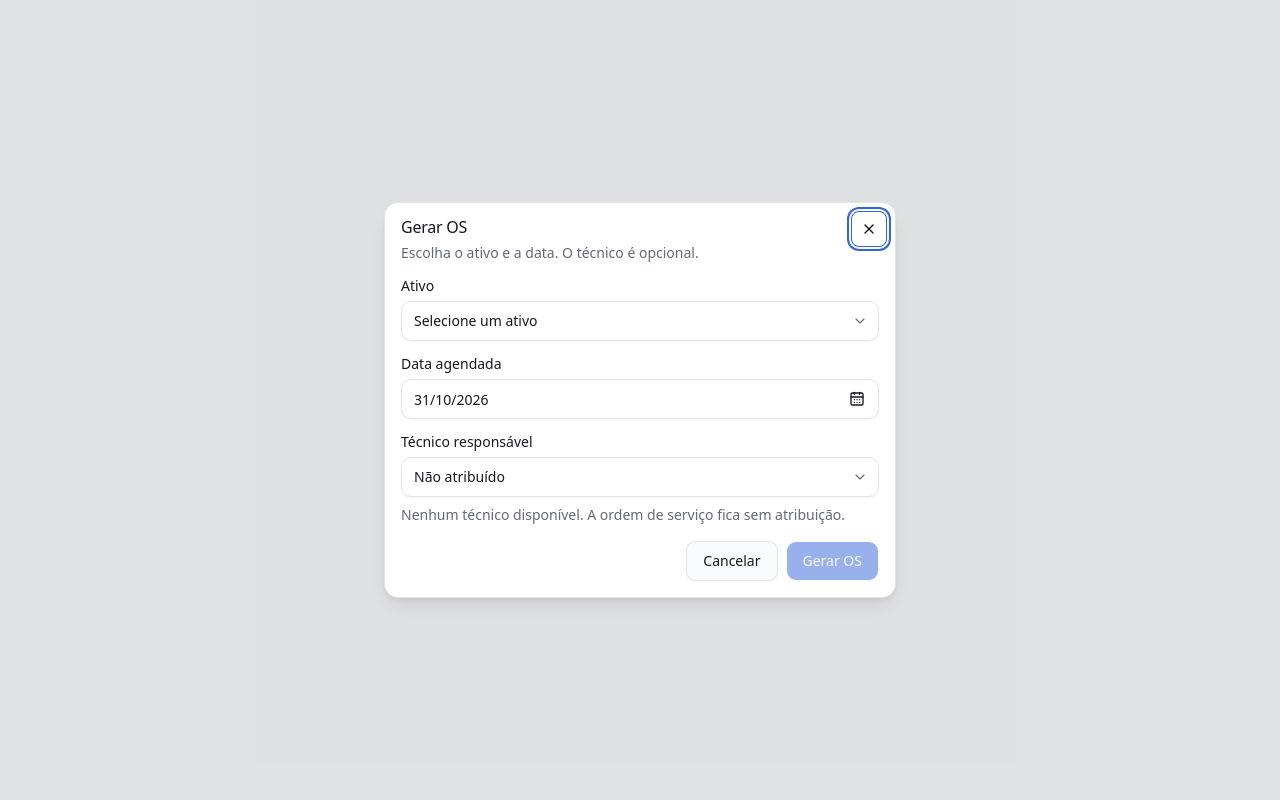
Scenario: GenerateWorkOrderDialog › translates the inactive plan error
Click the dropdown labelled "ativo" at (476, 320), box [401,301,879,341]
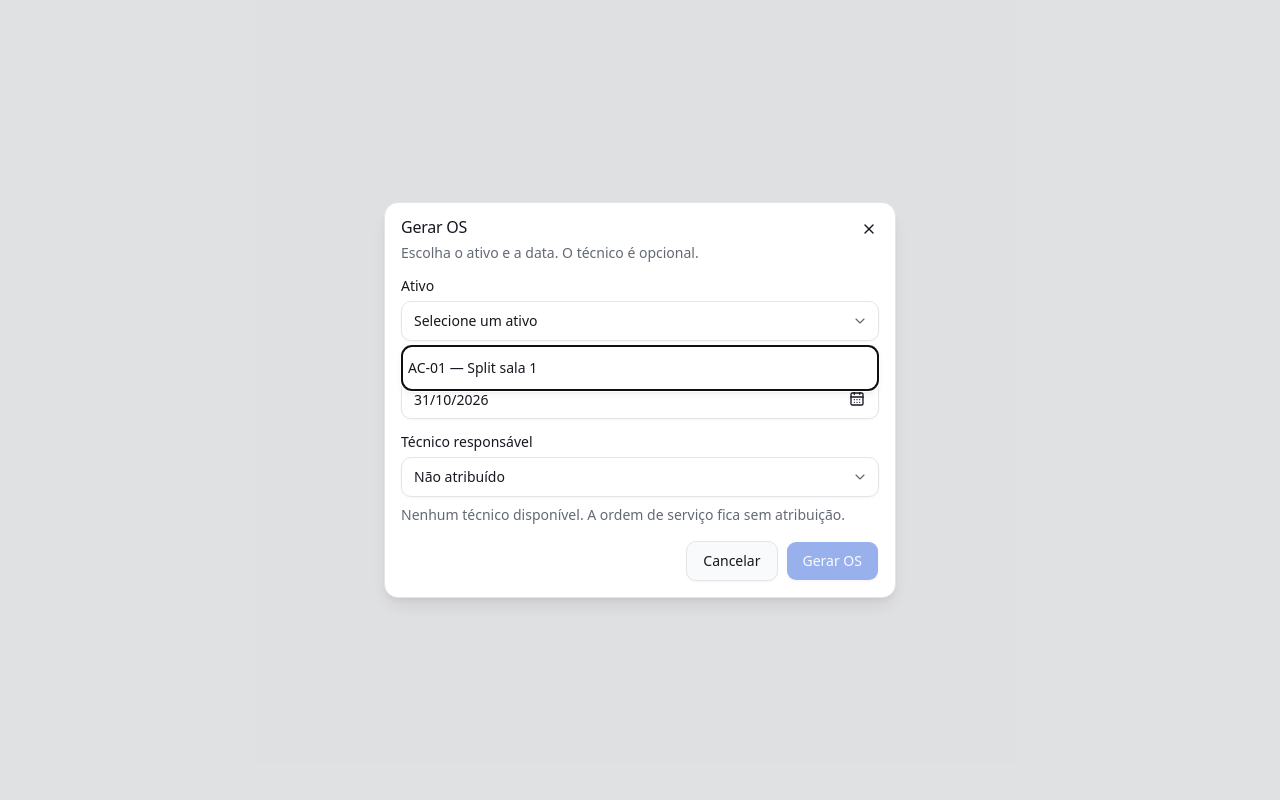
Click the option "AC-01 — Split sala 1" at (473, 368), box [408,358,537,377]
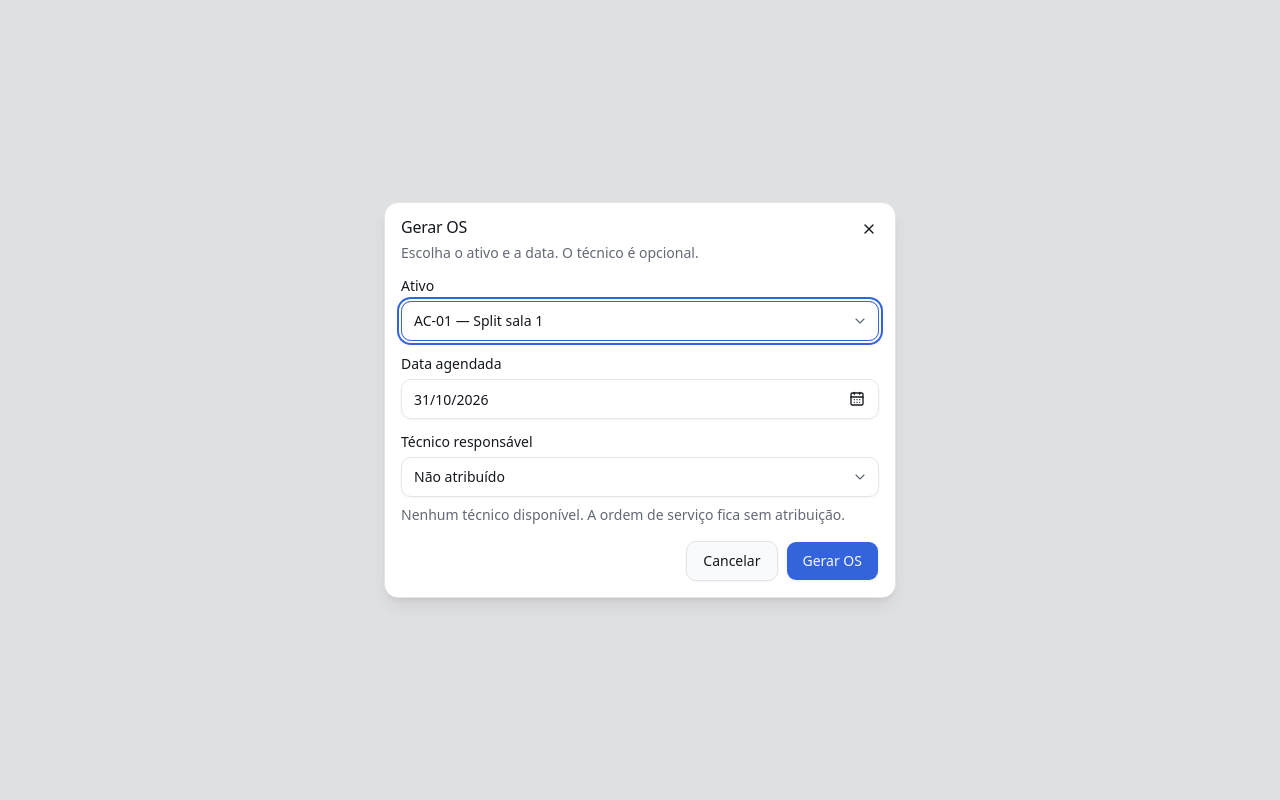
Click the button "Gerar OS" at (832, 561), box [786,541,879,581]
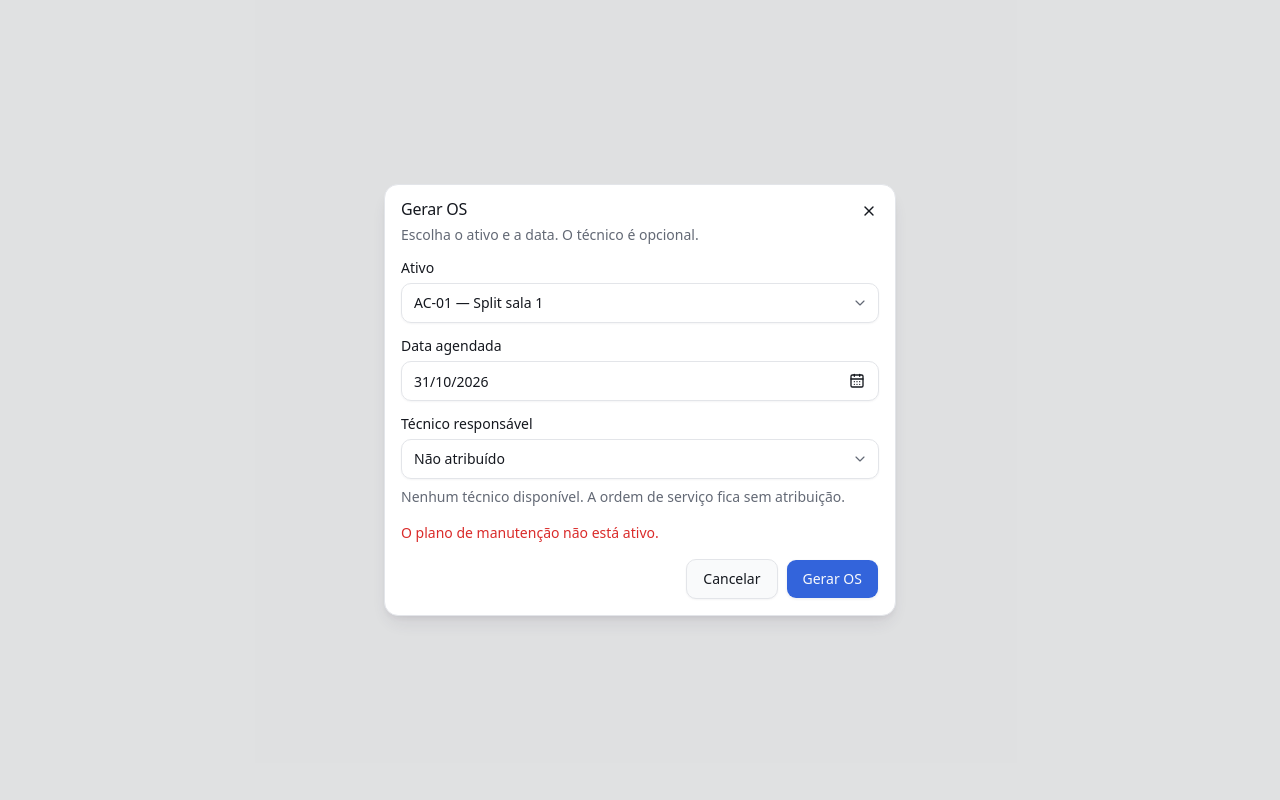
Expected: the text "O plano de manutenção não está ativo." is shown, [401,523,659,542]
